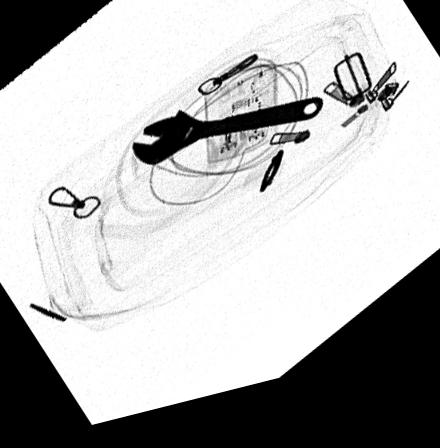Wrench: (129, 110, 326, 173)
